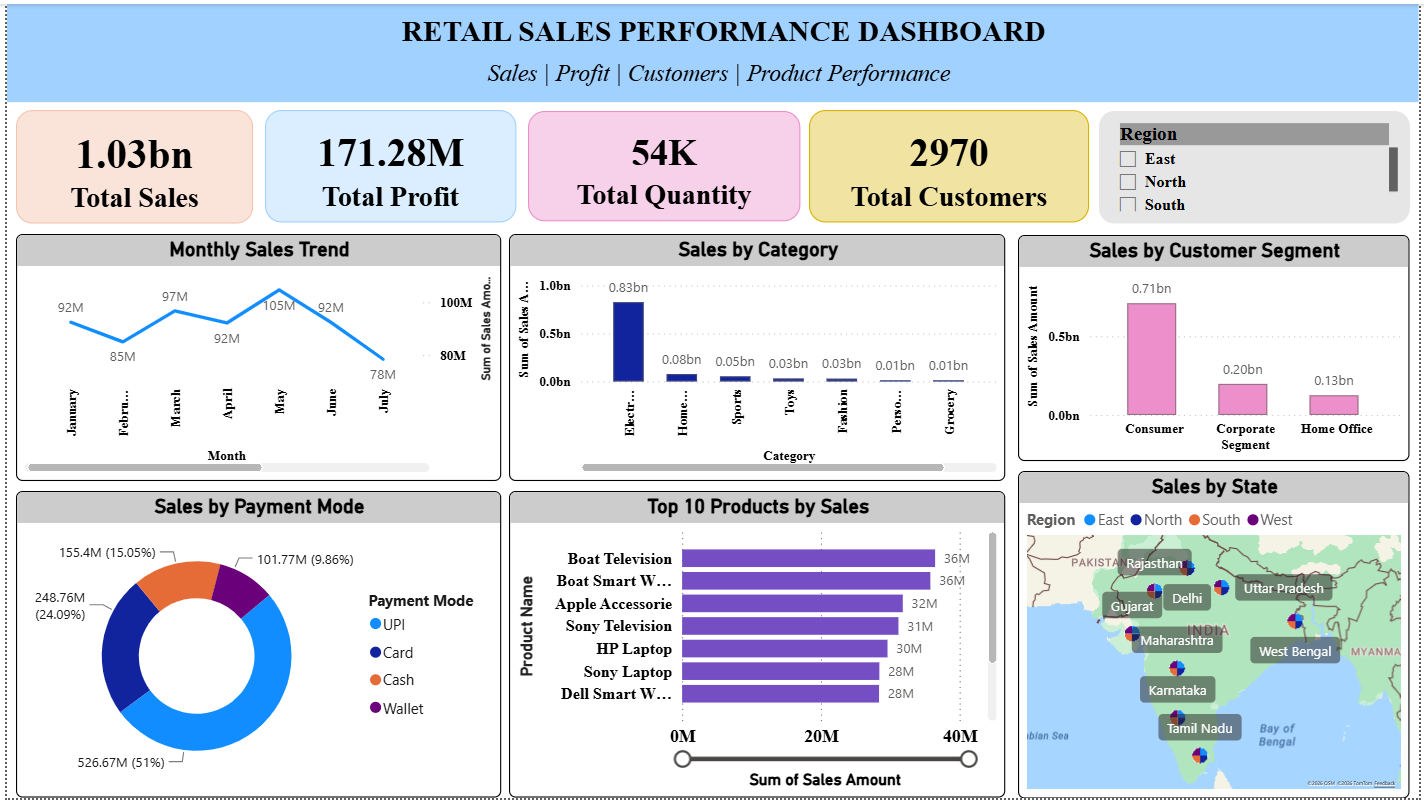

This screenshot's page, from the dashboard's own definition file:
{"tool":"powerbi","page":{"name":"Page 1","canvas":[1280,720],"ordinal":0},"visuals":[{"type":"card","fields":{"Values":["Stores (2).Total Sales"]},"box":[7.8,96.3,215,103.1],"z":0},{"type":"card","fields":{"Values":["Stores (2).Total Profit"]},"box":[234.4,96.3,227.6,102.1],"z":1000},{"type":"card","fields":{"Values":["Customers (2).Total Quantity"]},"box":[472.4,97,246.6,99.7],"z":2000},{"type":"card","fields":{"Values":["Customers (2).Total Customers"]},"box":[727.3,96.1,253.9,102.1],"z":3000},{"type":"lineChart","title":"Monthly Sales Trend","fields":{"Category":["Sales (2).Order Date.Variation.Date Hierarchy.Month"],"Y2":["Sum(Sales (2).Sales Amount)"]},"box":[7.8,208.1,439.6,223.7],"z":4000},{"type":"clusteredColumnChart","title":"Sales by Category","fields":{"Category":["Products (2).Category"],"Y":["Sum(Sales (2).Sales Amount)"]},"box":[455.2,208.1,450.3,223.7],"z":5000},{"type":"donutChart","title":"Sales by Payment Mode","fields":{"Category":["Sales (2).Payment Mode"],"Y":["Sum(Sales (2).Sales Amount)"]},"box":[7.8,441.6,439.6,278.2],"z":6000},{"type":"clusteredBarChart","title":"Top 10 Products by Sales","fields":{"Category":["Products (2).Product Name"],"Y":["Sum(Sales (2).Sales Amount)"]},"box":[455.2,441.6,450.3,278.2],"z":7000},{"type":"textbox","box":[0,0,1280,89.5],"z":8000},{"type":"clusteredColumnChart","title":"Sales by Customer Segment","fields":{"Category":["Customers (2).Segment"],"Y":["Sum(Sales (2).Sales Amount)"]},"box":[917.2,209.1,355,205.2],"z":9000},{"type":"azureMap","title":"Sales by State","fields":{"Category":["Customers (2).State"],"Series":["Stores (2).Region"]},"box":[917.2,423.1,355,296.7],"z":10000},{"type":"slicer","fields":{"Values":["Stores (2).Region"]},"box":[990.2,97,282.1,102.1],"z":11000}]}

Visuals, with their boxes in screenshot pixels (x1, y1, x2, y2), scaled from the page's 1280x720 canvas onto the 1424x804 screenshot:
card - Stores (2).Total Sales: x1=9 y1=108 x2=248 y2=223
card - Stores (2).Total Profit: x1=261 y1=108 x2=514 y2=222
card - Customers (2).Total Quantity: x1=526 y1=108 x2=800 y2=220
card - Customers (2).Total Customers: x1=809 y1=107 x2=1092 y2=221
"Monthly Sales Trend" lineChart: x1=9 y1=232 x2=498 y2=482
"Sales by Category" clusteredColumnChart: x1=506 y1=232 x2=1007 y2=482
"Sales by Payment Mode" donutChart: x1=9 y1=493 x2=498 y2=803
"Top 10 Products by Sales" clusteredBarChart: x1=506 y1=493 x2=1007 y2=803
textbox: x1=0 y1=0 x2=1423 y2=100
"Sales by Customer Segment" clusteredColumnChart: x1=1020 y1=233 x2=1415 y2=463
"Sales by State" azureMap: x1=1020 y1=472 x2=1415 y2=803
slicer - Stores (2).Region: x1=1102 y1=108 x2=1415 y2=222
